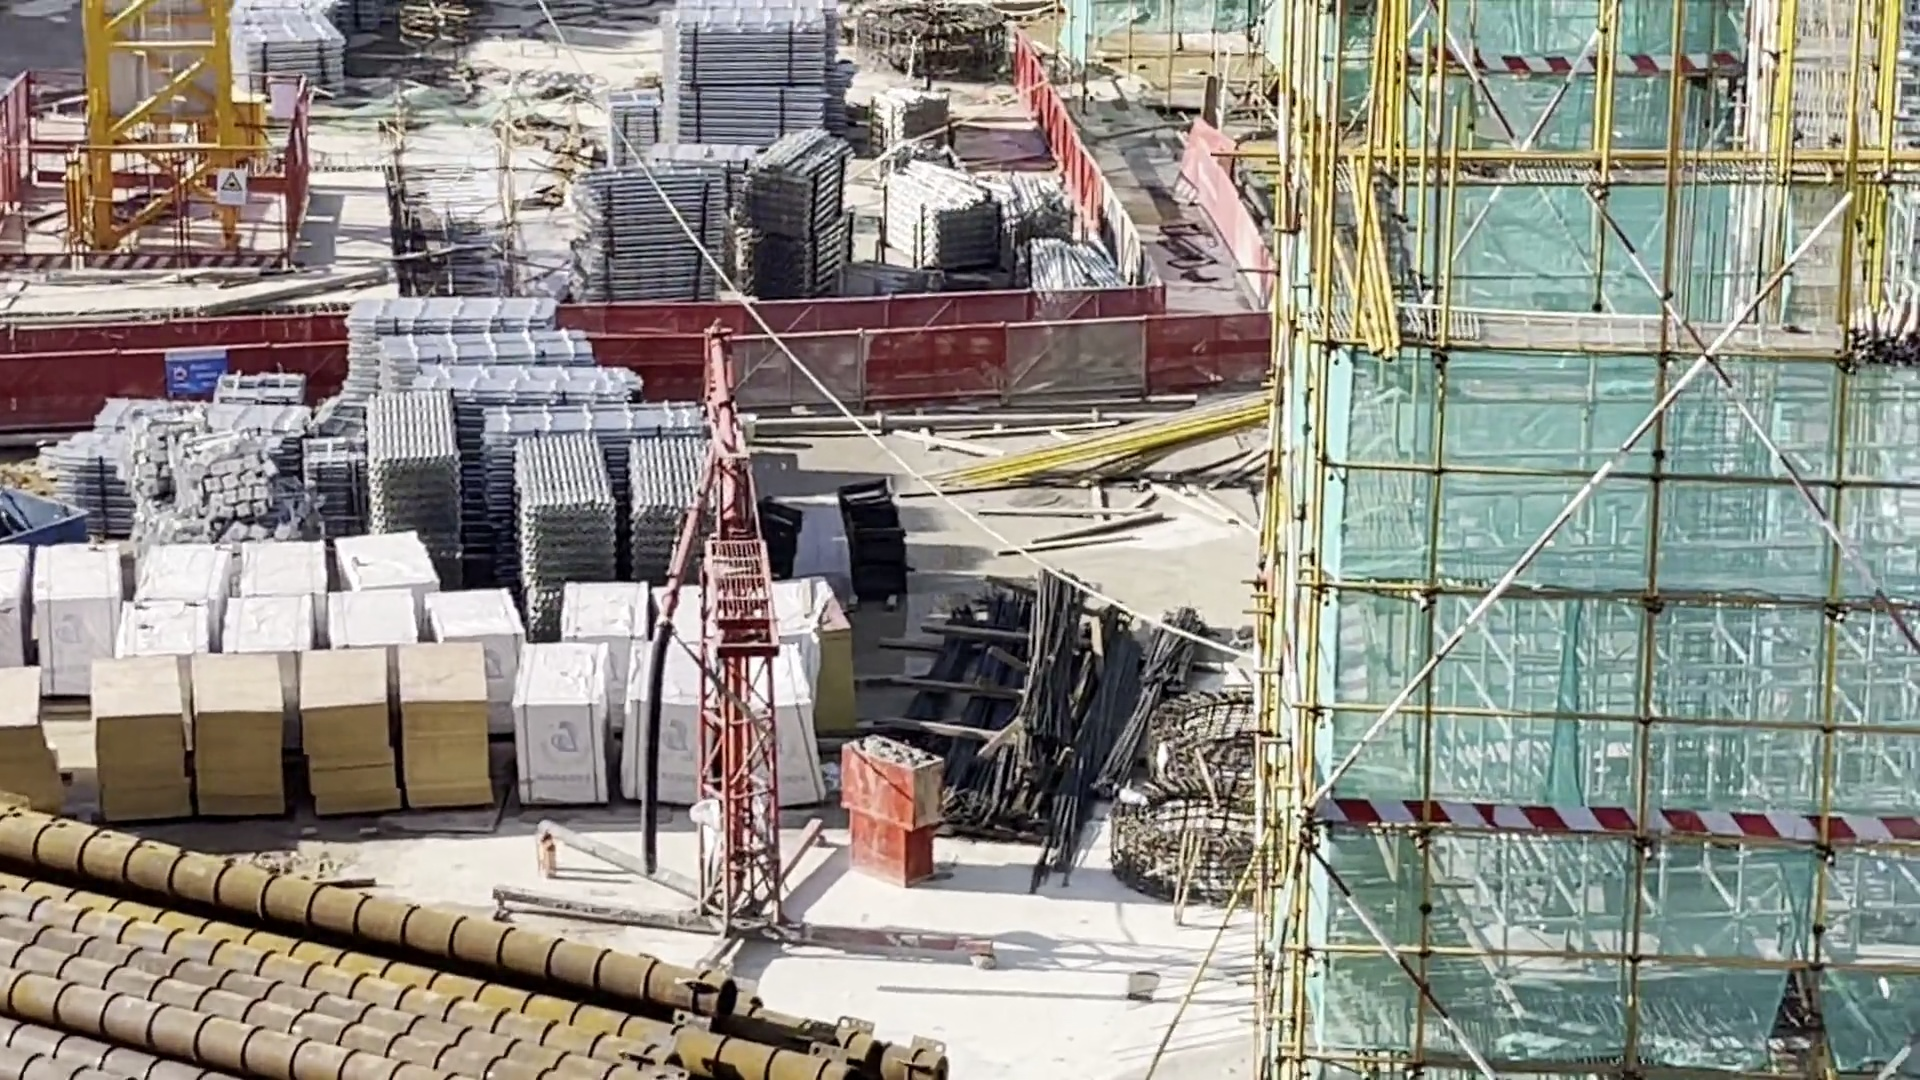board: (389, 638, 512, 827), (289, 640, 401, 823), (189, 644, 295, 831), (84, 647, 193, 832), (1, 651, 75, 812)
scaffold: (465, 402, 713, 541), (564, 156, 737, 316), (342, 291, 600, 390), (504, 431, 621, 608), (357, 382, 467, 562), (373, 320, 599, 405), (746, 132, 858, 290), (617, 434, 723, 597), (647, 80, 851, 161), (655, 7, 848, 90), (414, 368, 640, 407)
